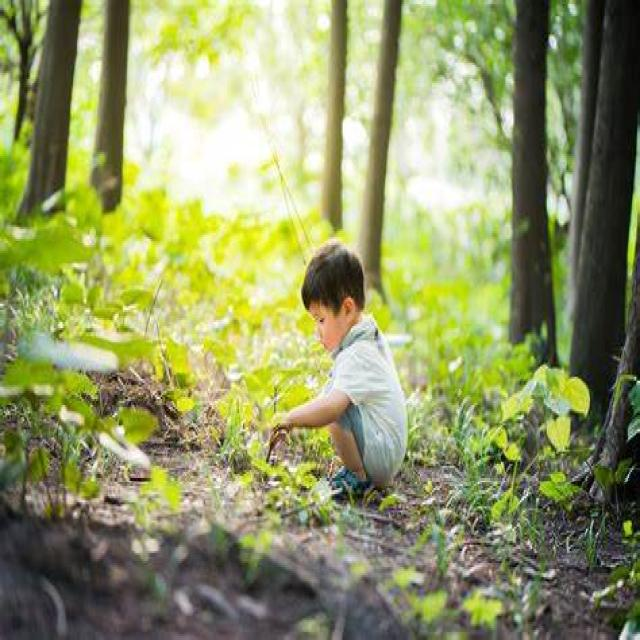sit: (288, 230, 419, 512)
